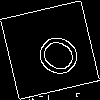O: (25, 25, 85, 82)
